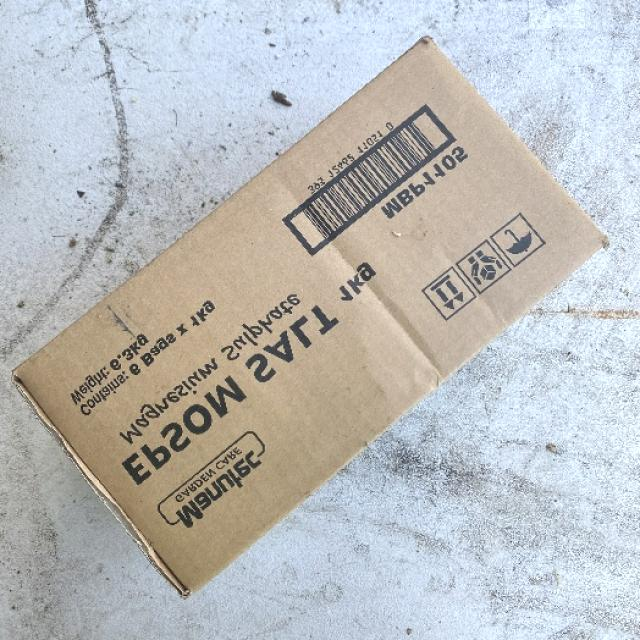kertas: (32, 45, 610, 581)
